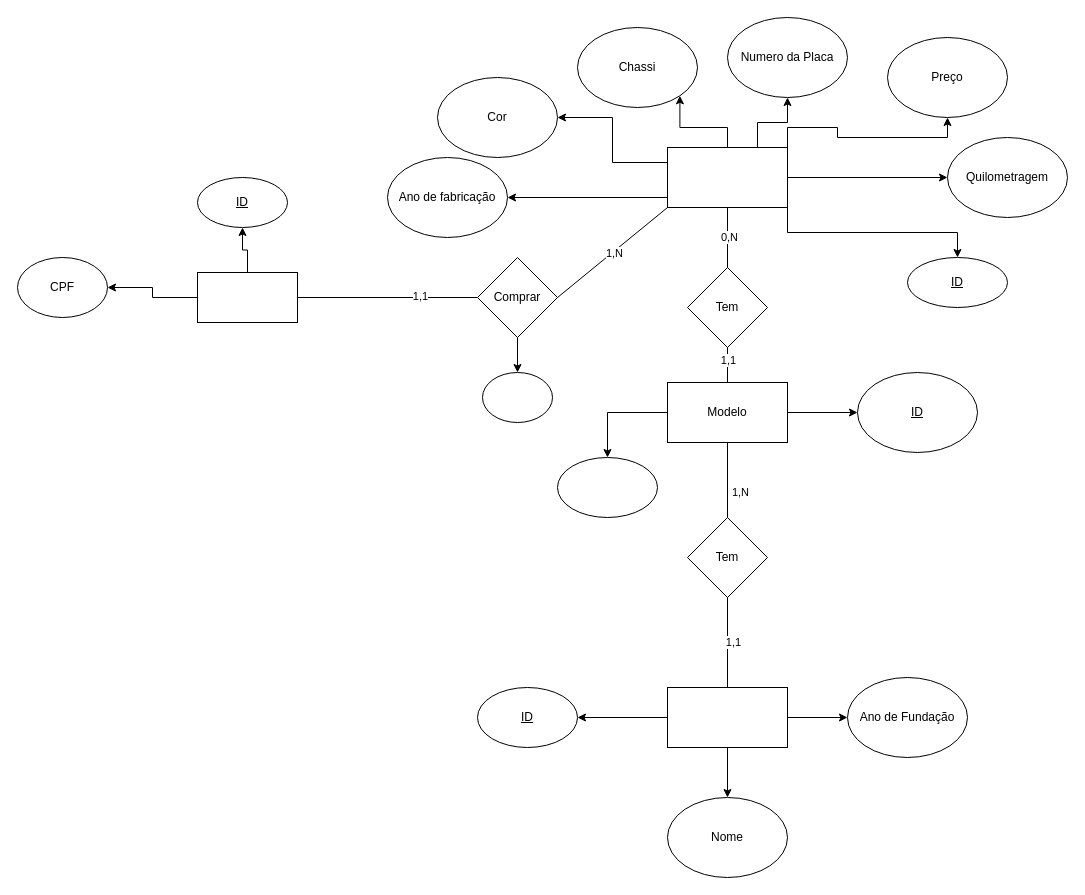
This 1085x895 diagram has some shape labels left out. The centre of each missing label's shape, as x and y in pixels:
"Ano" goes at point (607, 487).
"Cliente" goes at point (247, 297).
"Data de Compra" goes at point (517, 397).
"Marca" goes at point (727, 717).
"Veiculo" goes at point (727, 177).
